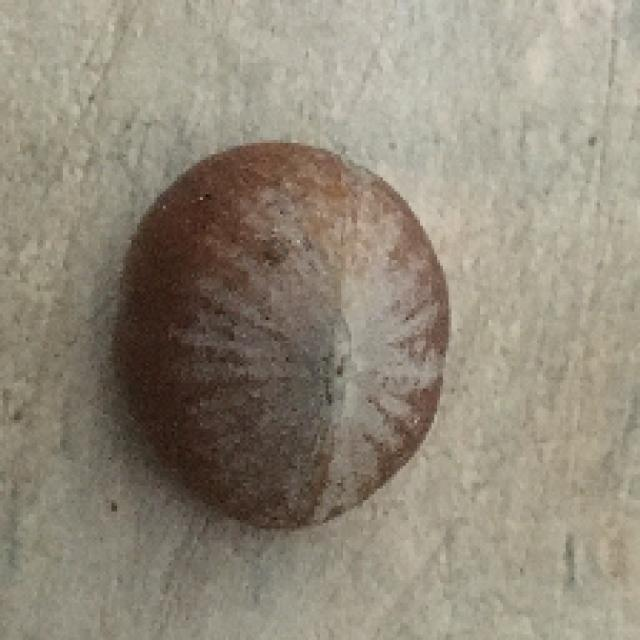qualityHazelnut: (112, 138, 458, 538)
